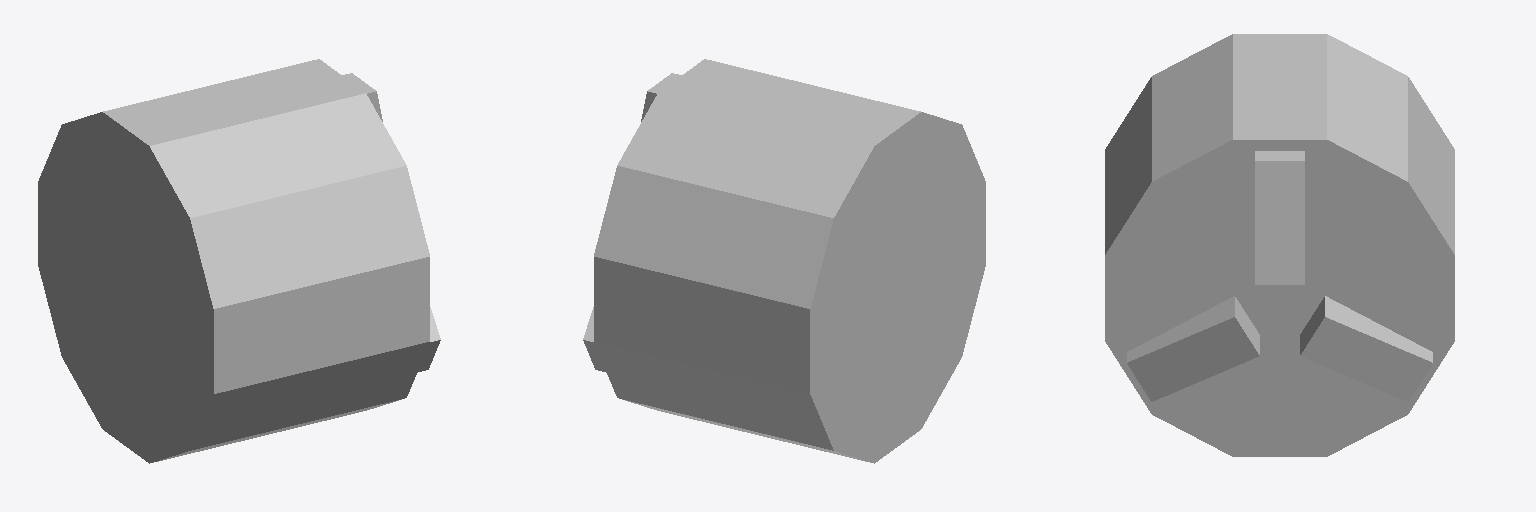
Rendered from lathe_holder.obj.
3 views of the same model, side by side, from view 1: azimuth 30°, elevation 25°; view 2: azimuth 150°, elevation 25°; view 3: azimuth 270°, elevation 25° (orthographic).
Parts seen in each view (by area): view 1: cylinder, cube; view 2: cylinder, cube; view 3: cylinder, cube.
Boxes of the visible parts, <box> form: cylinder: <box>38,59,429,463</box>; cube: <box>342,73,440,372</box>; cylinder: <box>594,59,985,463</box>; cube: <box>583,73,681,372</box>; cylinder: <box>1105,34,1454,456</box>; cube: <box>1127,151,1432,401</box>.
Bounding box in the file's own units: 0.375 × 0.4375 × 0.4375.